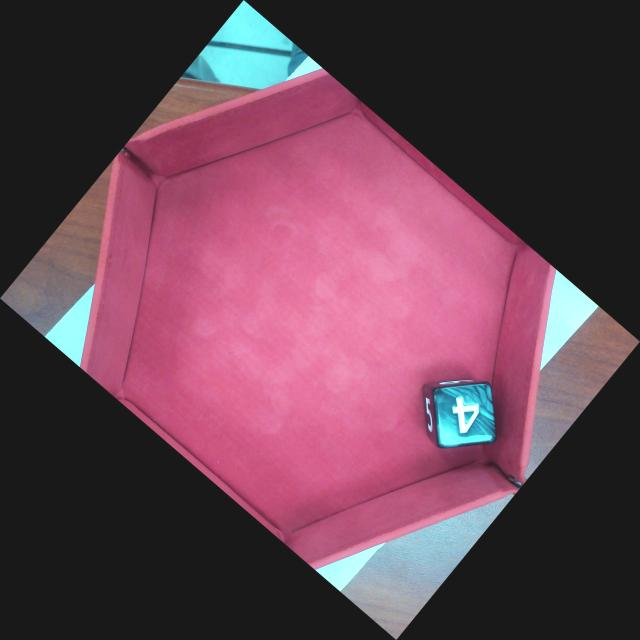dice: (433, 381, 498, 449)
